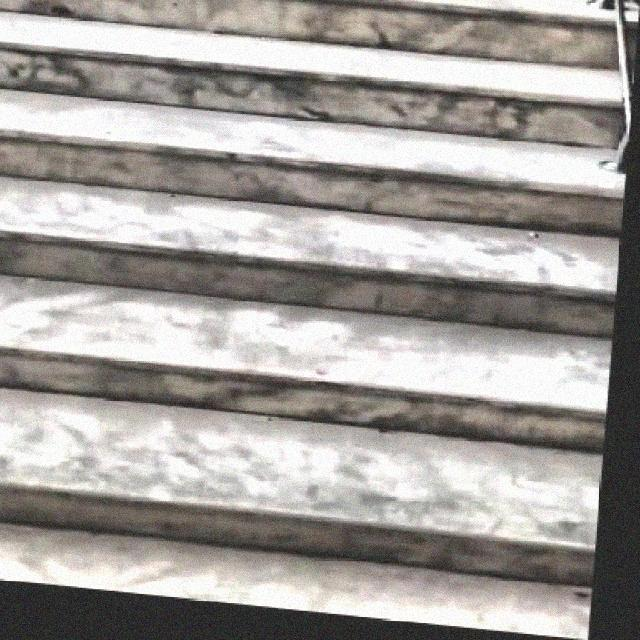stair: (2, 0, 640, 614)
